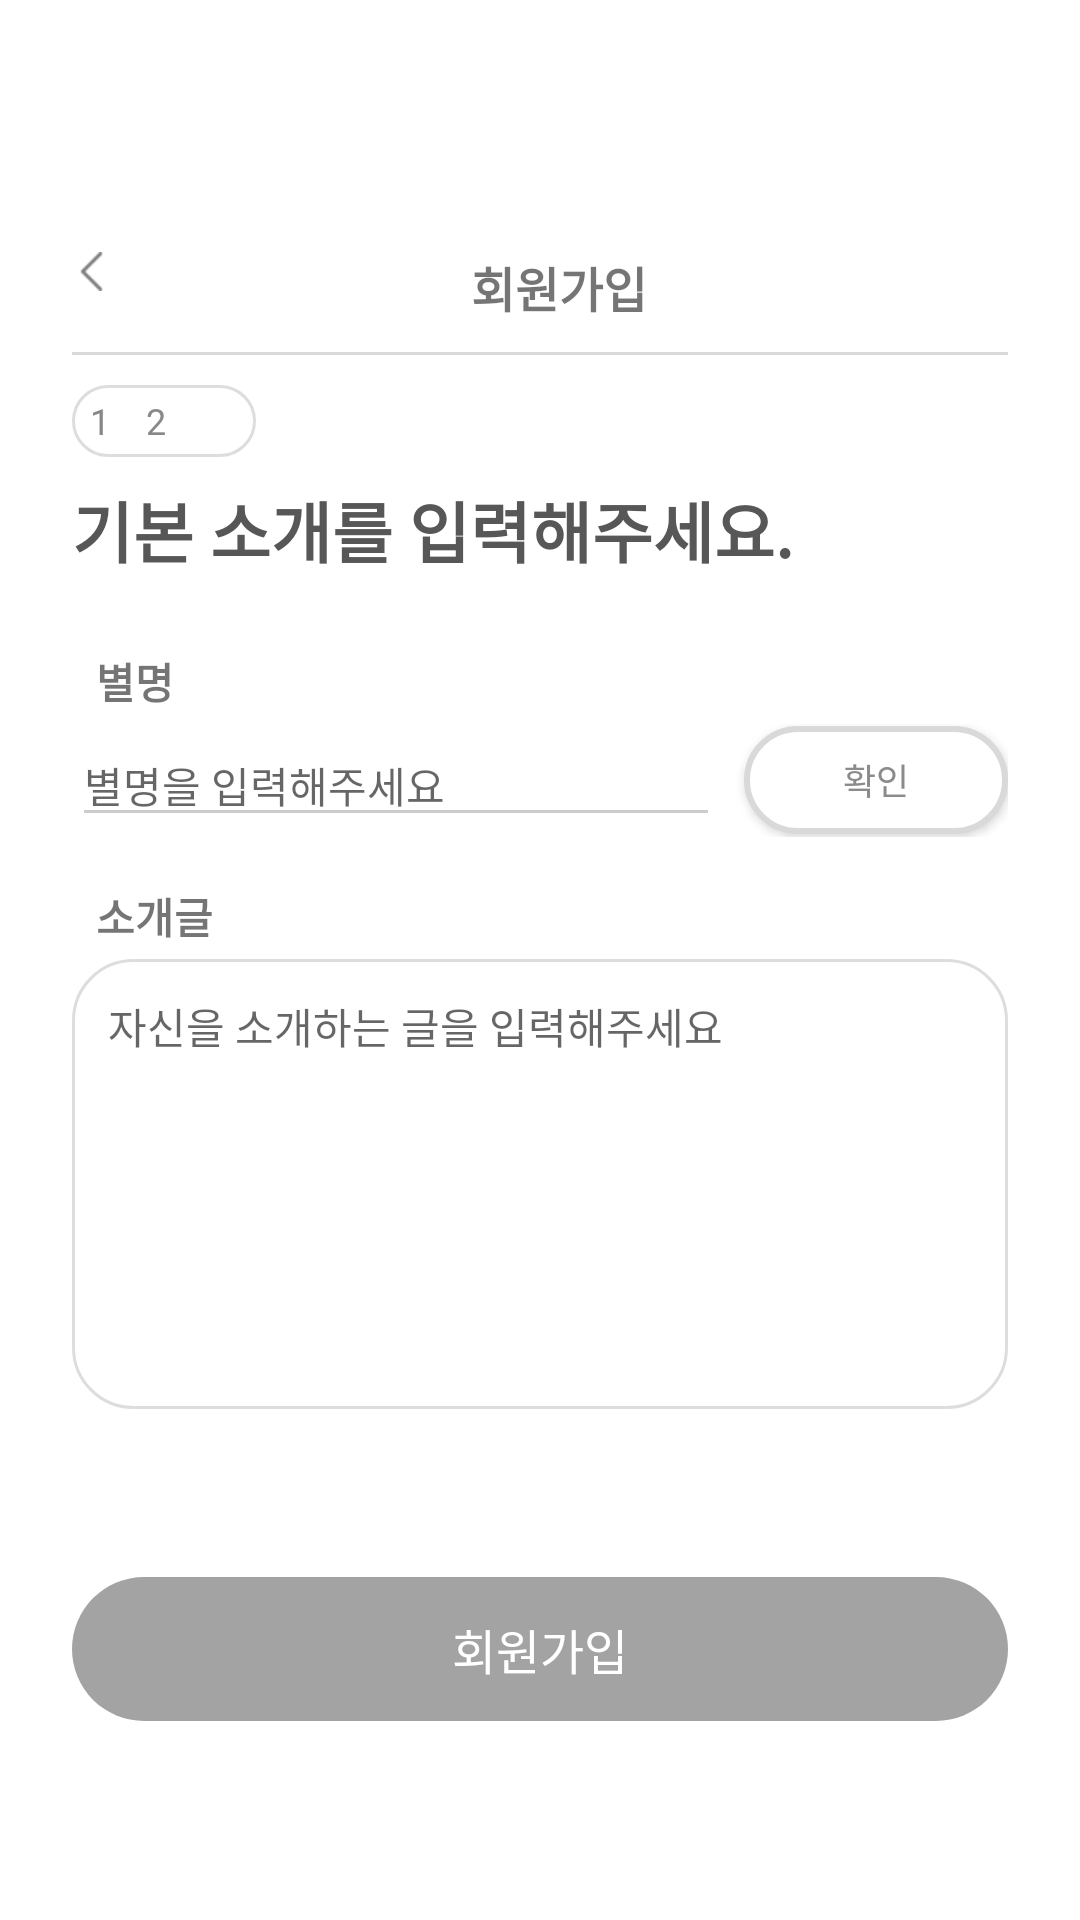

Icon bounding boxes for this 1080 × 1920 phone screenshot, format region(x1, y1, x2, y2):
back: region(81, 252, 102, 291)
